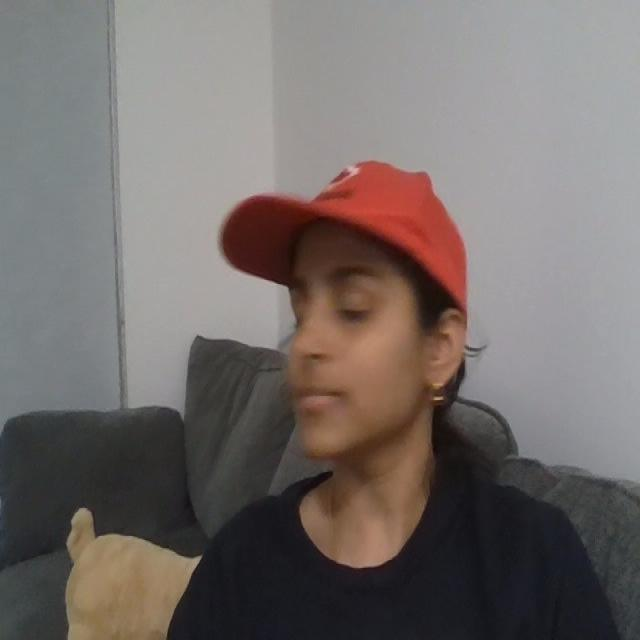Hat: (199, 125, 484, 283)
